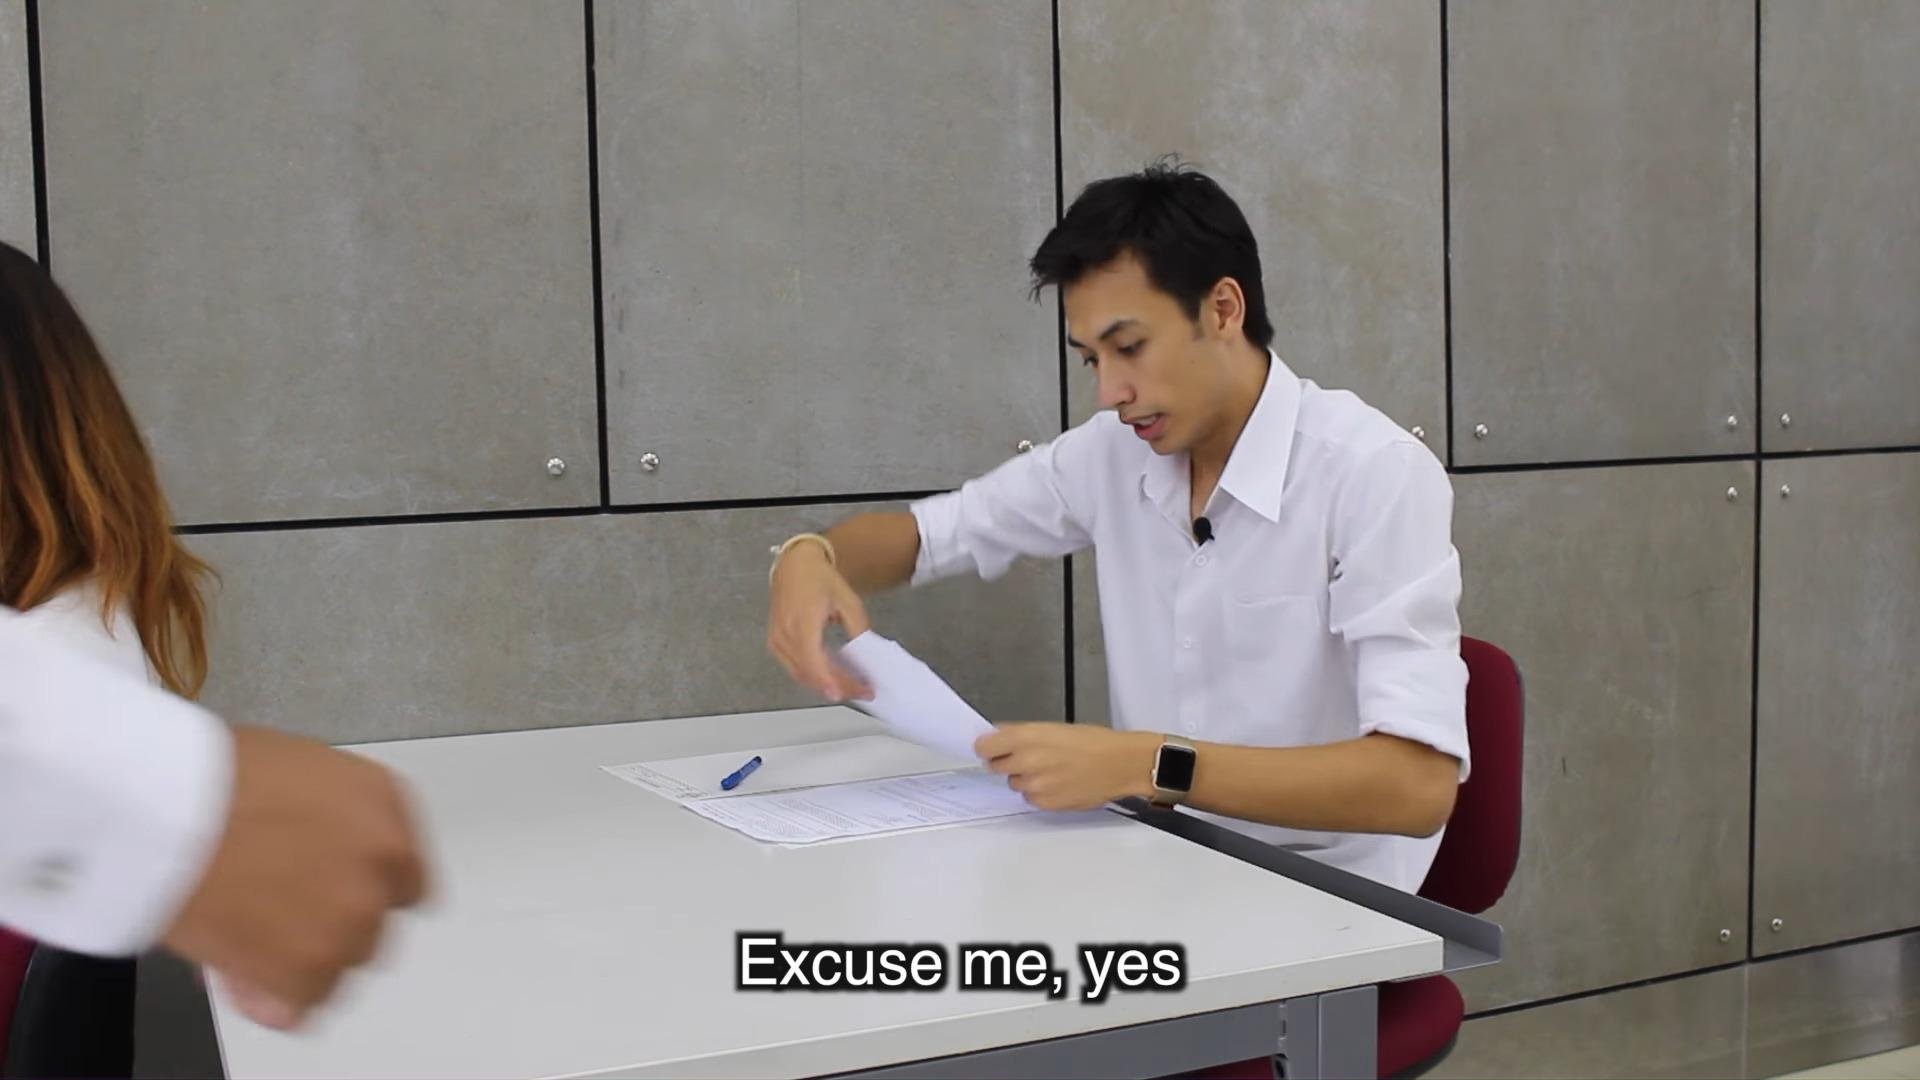good: (566, 117, 1493, 890)
